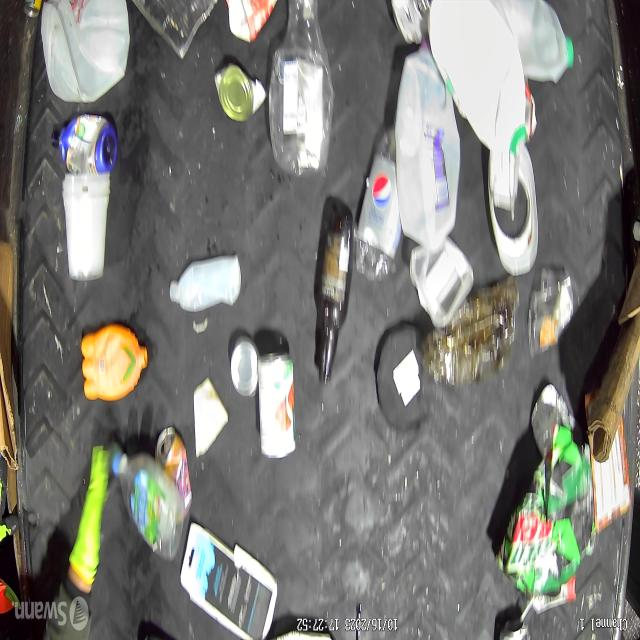can: (254, 334, 302, 472), (209, 58, 269, 139), (155, 415, 198, 524)
milk_jug: (423, 0, 527, 156), (394, 46, 458, 247), (37, 0, 129, 96), (507, 0, 578, 96)
non_white_jug: (76, 323, 149, 413)
plastic_bottle: (274, 0, 332, 179), (352, 103, 403, 286)
